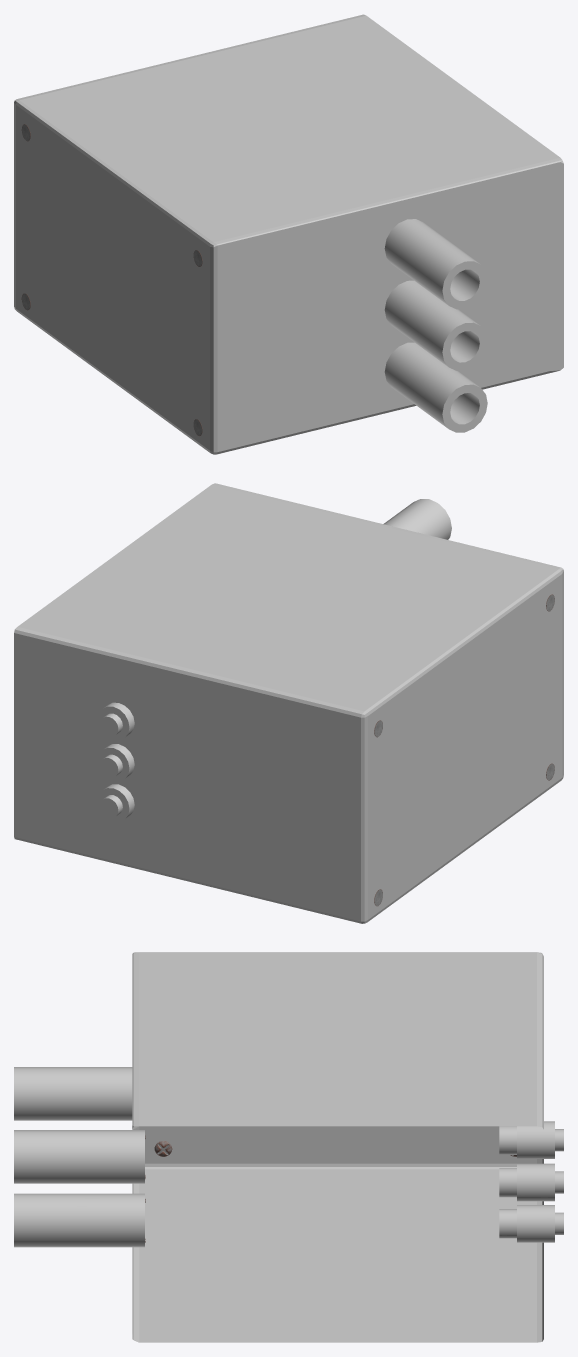
Rendered from outlet.fbx.
3 views of the same model, one above another, from view 1: azimuth 30°, elevation 25°; view 2: azimuth 150°, elevation 25°; view 3: azimuth 270°, elevation 25° (orthographic). The views are drawn at different scales.
Visible parts, largest first — view 1: Cube, Cylinder, Cylinder.004, Cylinder.003; view 2: Cube, Cylinder, Cylinder.005, Cylinder.007, Cylinder.006; view 3: Cube, Cylinder.004, Cylinder.003, Cylinder, Cylinder.006, Cylinder.007, Cylinder.005.
Part boxes in pixels (left/top/right/bottom): Cube: left=14, top=14, right=563, bottom=454; Cylinder: left=384, top=219, right=487, bottom=309; Cylinder.004: left=384, top=342, right=487, bottom=432; Cylinder.003: left=384, top=280, right=487, bottom=370; Cube: left=14, top=483, right=563, bottom=923; Cylinder: left=383, top=499, right=451, bottom=539; Cylinder.005: left=97, top=702, right=134, bottom=740; Cylinder.007: left=97, top=784, right=134, bottom=821; Cylinder.006: left=97, top=744, right=134, bottom=781; Cube: left=132, top=952, right=543, bottom=1342; Cylinder.004: left=14, top=1193, right=144, bottom=1247; Cylinder.003: left=14, top=1130, right=144, bottom=1183; Cylinder: left=14, top=1067, right=132, bottom=1120; Cylinder.006: left=499, top=1163, right=563, bottom=1201; Cylinder.007: left=499, top=1205, right=563, bottom=1242; Cylinder.005: left=499, top=1121, right=563, bottom=1158.
Bounding box in the file's own units: 1386 × 797 × 1836.
